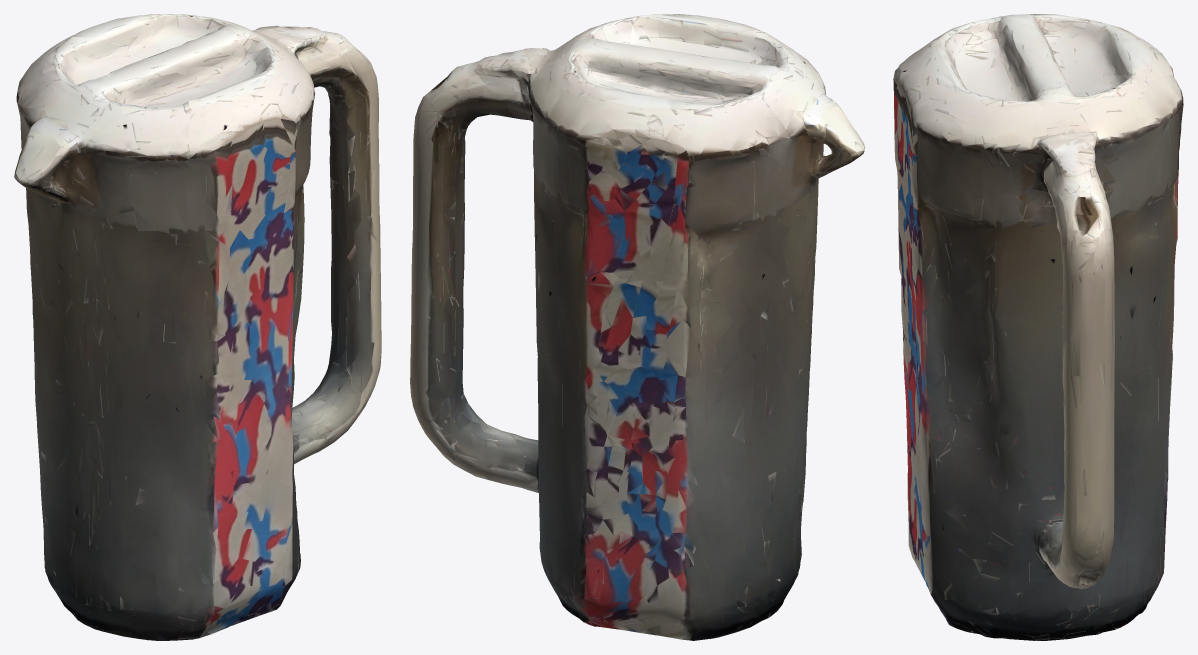
Rendered from KettleBlack.obj.
The picture shows the model from 3 angles, left to right: view 1: azimuth 30°, elevation 25°; view 2: azimuth 150°, elevation 25°; view 3: azimuth 270°, elevation 25°; orthographic projection.
Bounding box in the file's own units: 0.2116 × 0.2709 × 0.1311.
Materials: 1 (1 with a texture image).
